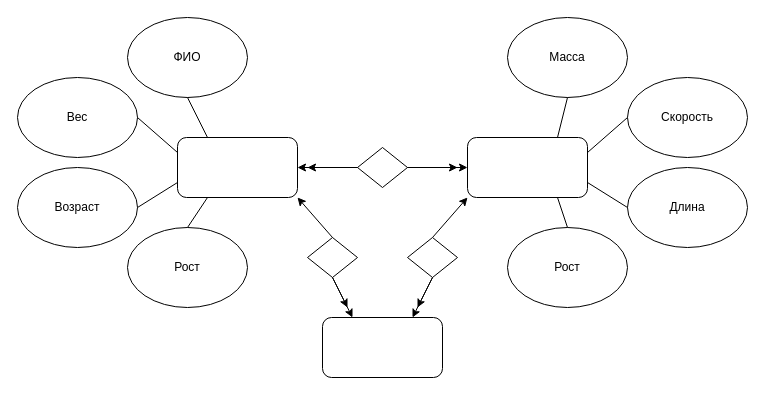
Image size: 765x395. Some labels were removed from this diagram. The shapes that lost their labels are listed below. From the top down, each one's centre as x and y in pixels, then its label:
pixel 237 167: Наездник ------ Жокей
pixel 527 167: Лошадь
pixel 382 347: Ипподром
